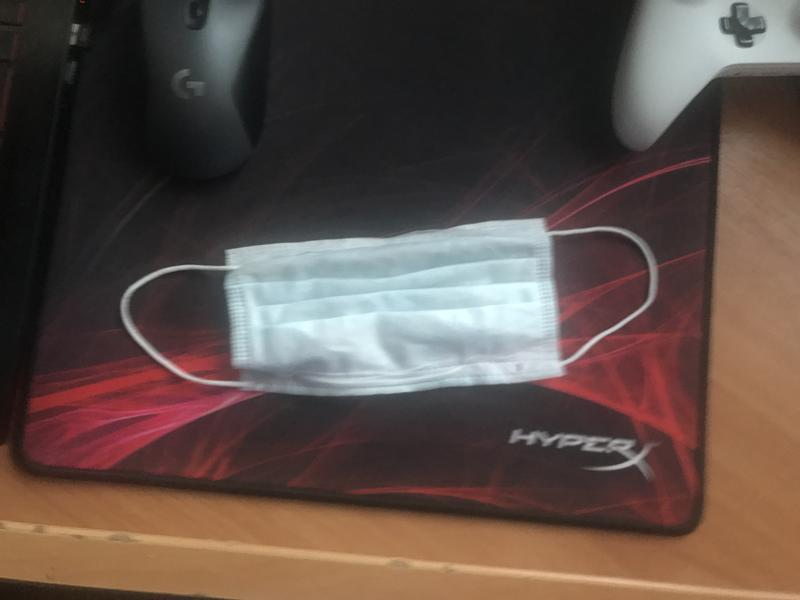medical_mask: (117, 224, 654, 392)
